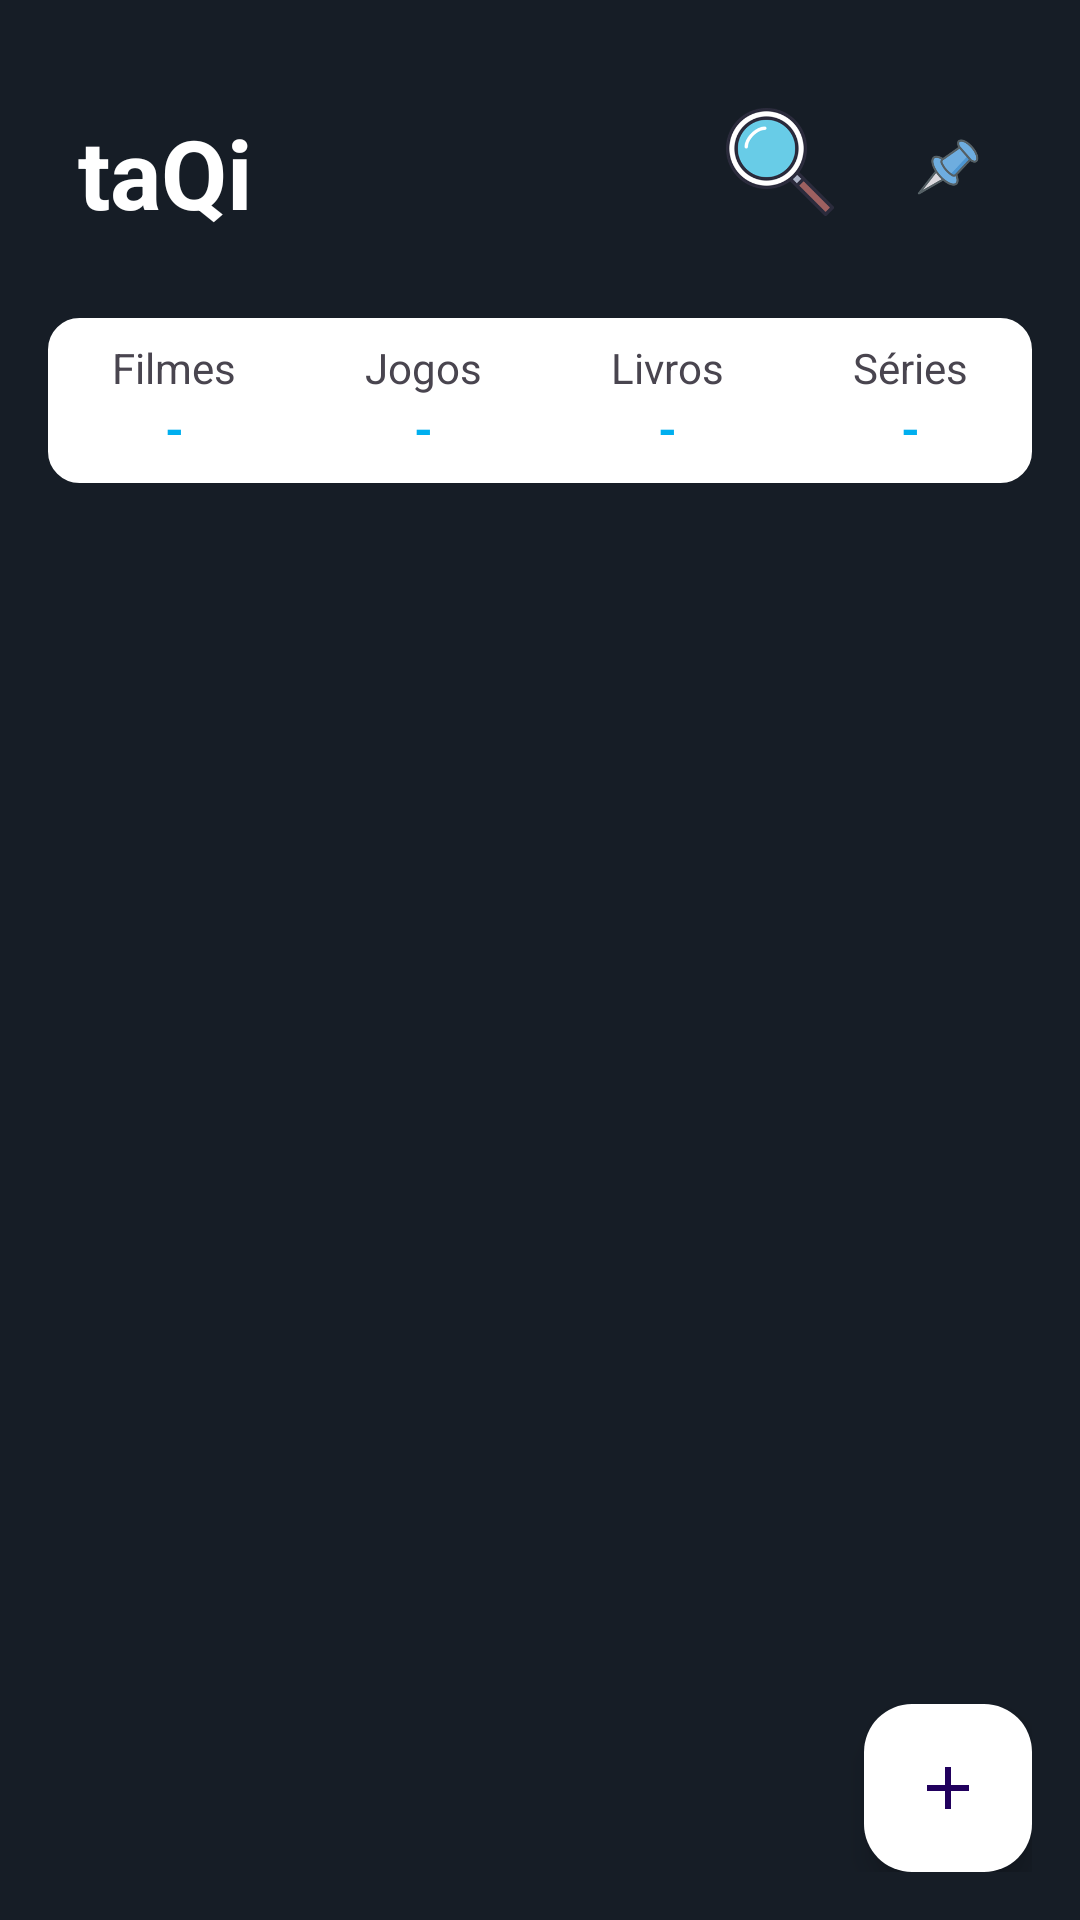

Point at icon controls on the screen. Image size 1080px×1920px, points as [x,y].
add: [948,1788]
pesq: [778,160]
